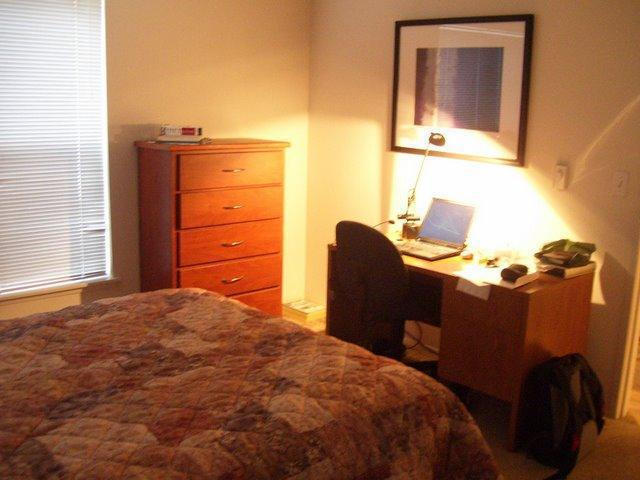Armario: (145, 142, 281, 312)
Cama: (12, 308, 474, 479)
Otro Obstaculo: (521, 350, 622, 468)
